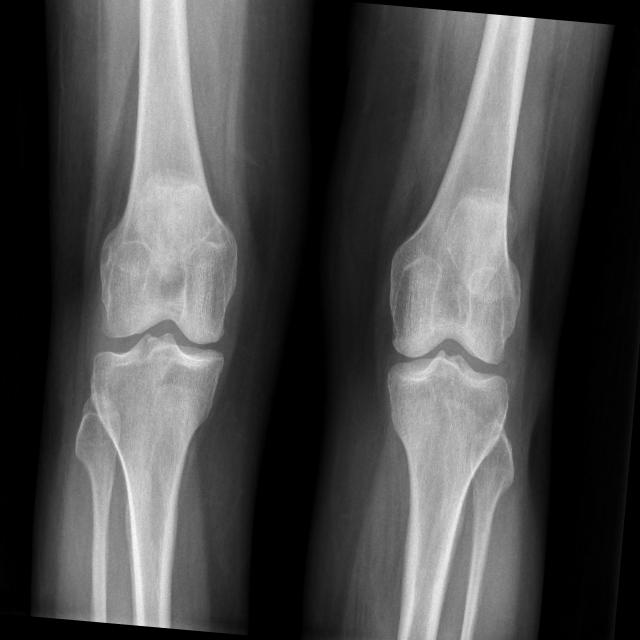Knee: (81, 272, 232, 423), (375, 292, 518, 428)
